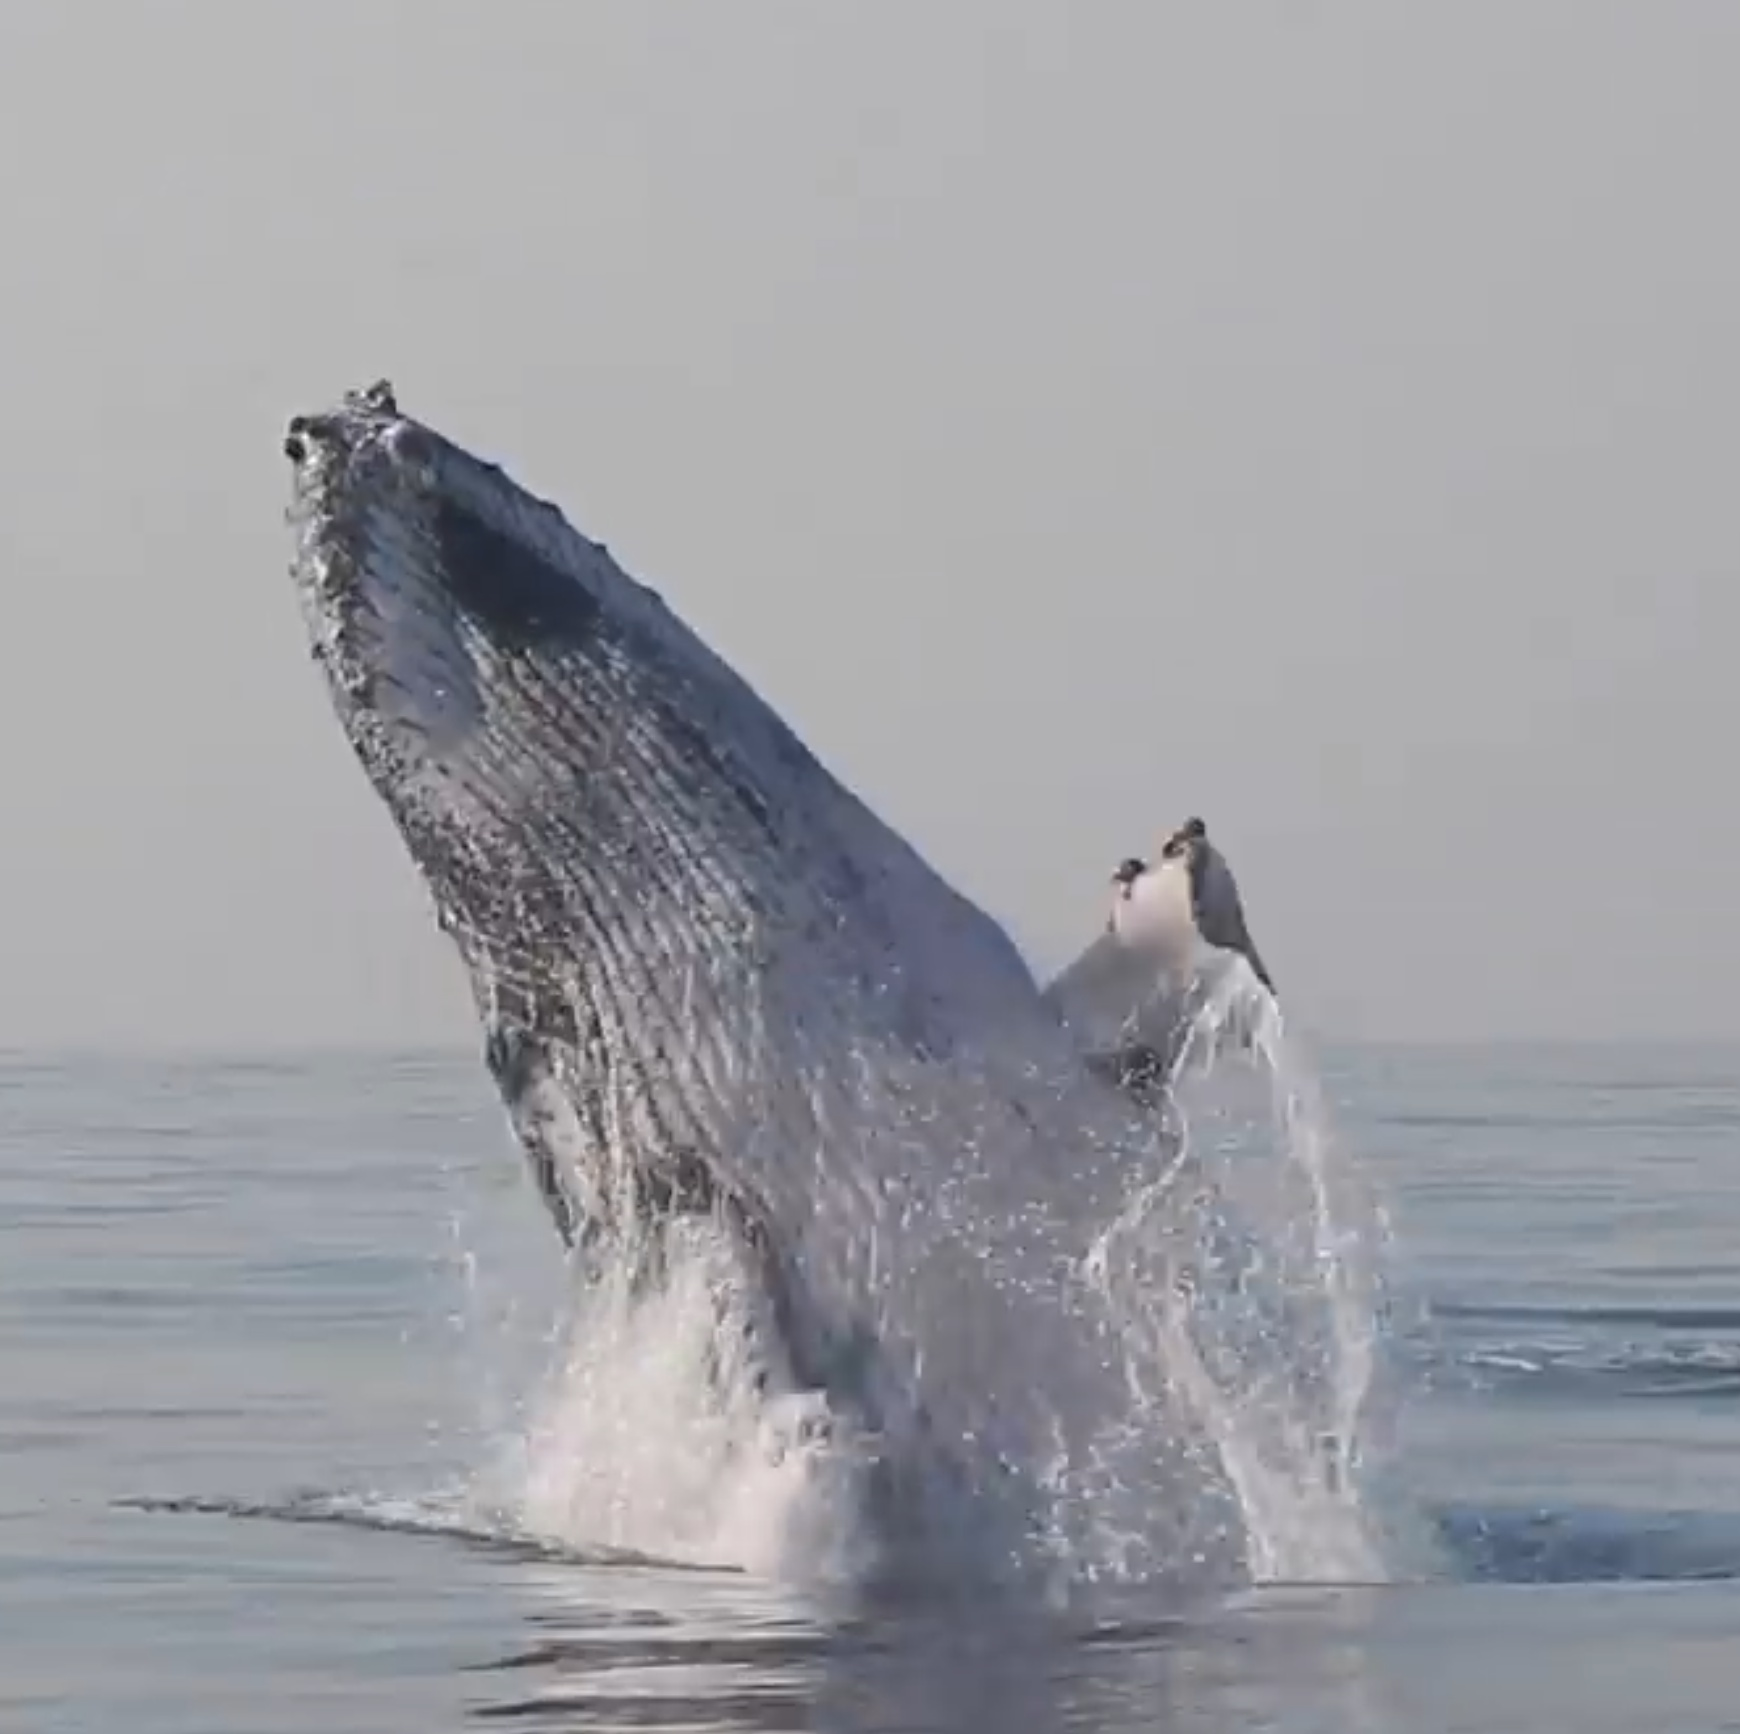humpback: (271, 380, 1322, 1585)
